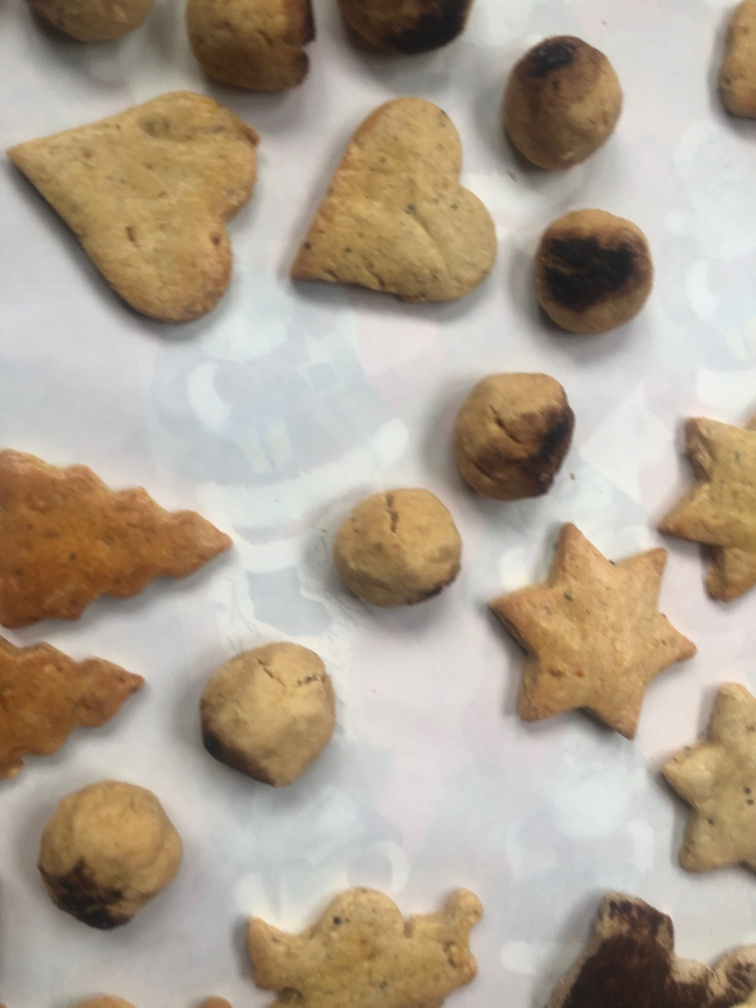christmas tree: (4, 438, 237, 638), (1, 634, 150, 778)
heart: (3, 85, 264, 337), (286, 86, 504, 318)
santa claus: (229, 877, 481, 1008)
snowball: (484, 511, 697, 745), (192, 635, 342, 795), (36, 776, 187, 932), (652, 678, 755, 889), (660, 393, 756, 602), (525, 202, 658, 350), (504, 29, 634, 177), (449, 368, 580, 511), (332, 479, 463, 621), (178, 1, 319, 95), (329, 1, 479, 71)
weird #1: (540, 887, 756, 1008)
